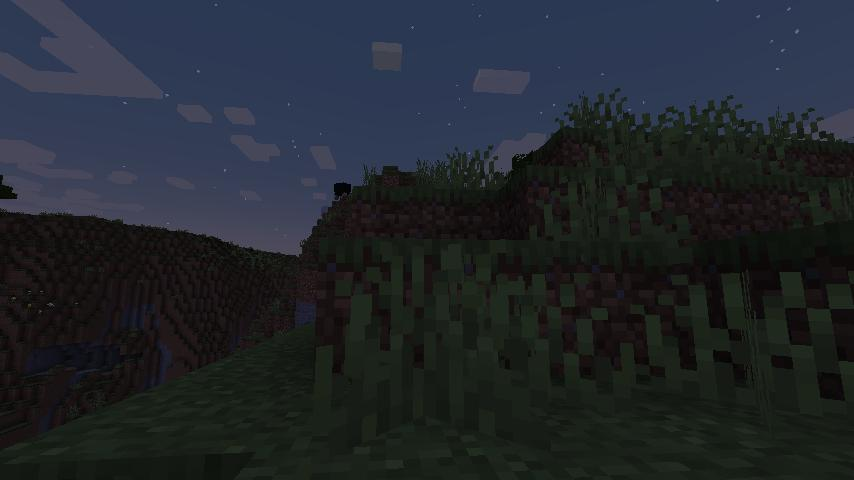sheep: (333, 180, 353, 202), (320, 204, 329, 219)
